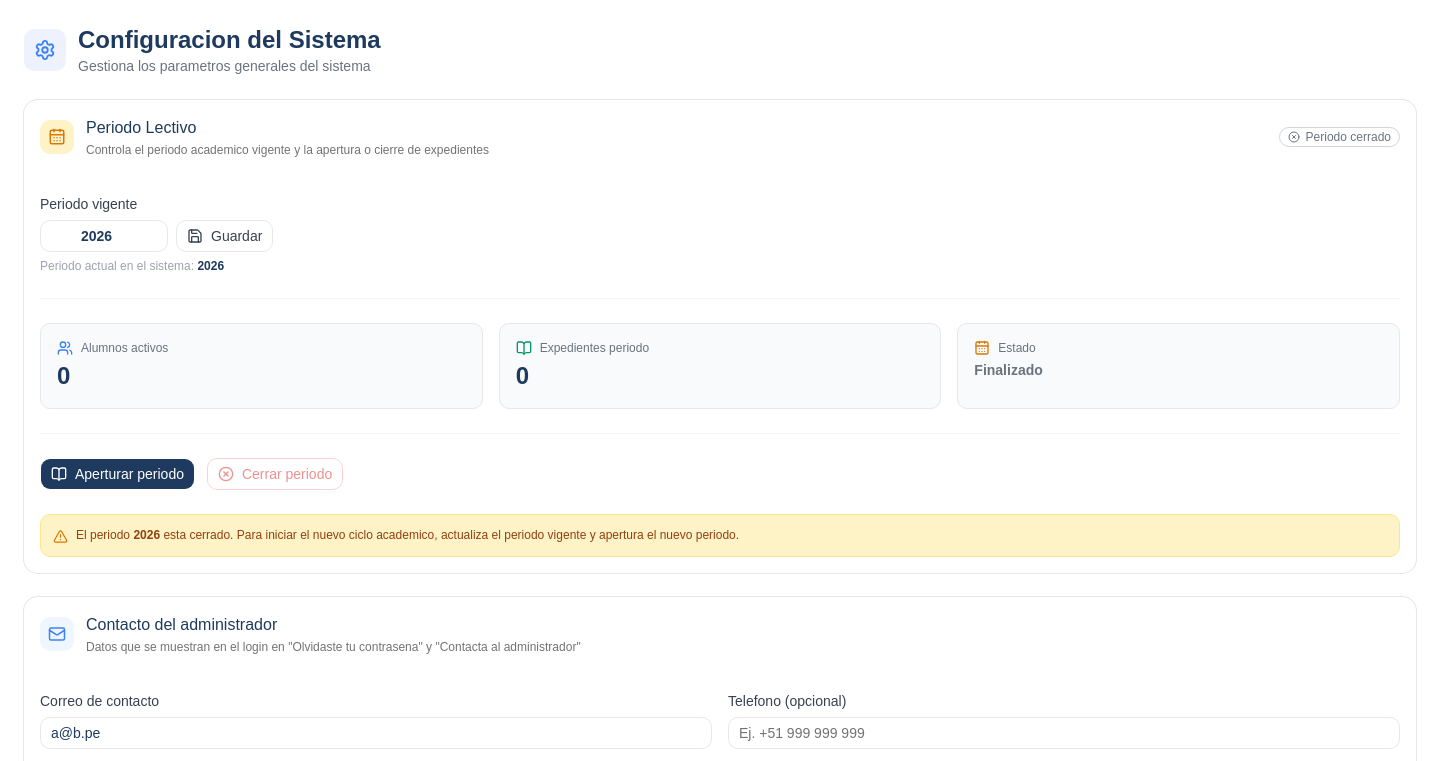
Scenario: AdminConfig — apertura reporta los omitidos › no menciona omitidos cuando se crearon todos
Click the button "Aperturar periodo".
click(118, 474)  # box 40,458 -> 195,490
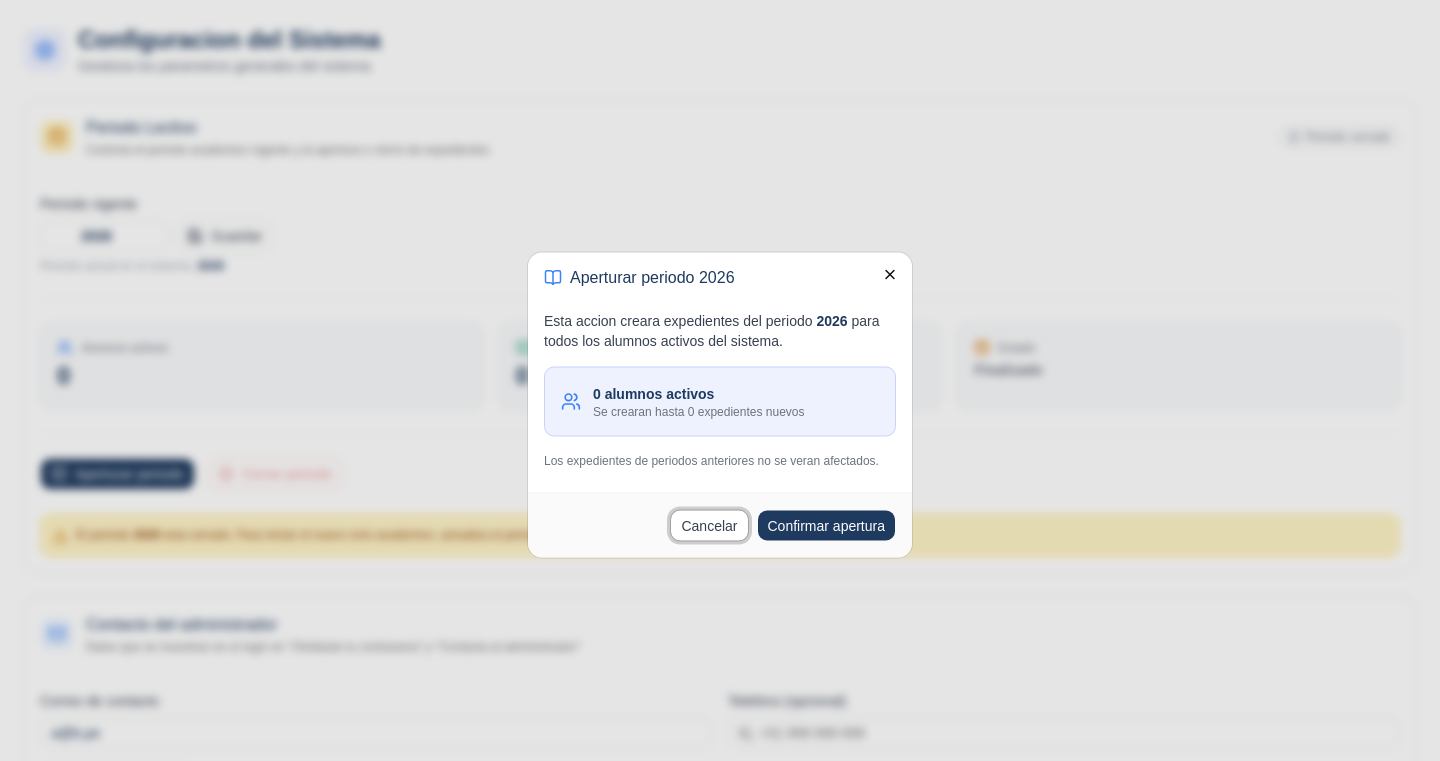
Click the button "Confirmar apertura".
click(826, 526)  # box 756,510 -> 896,542
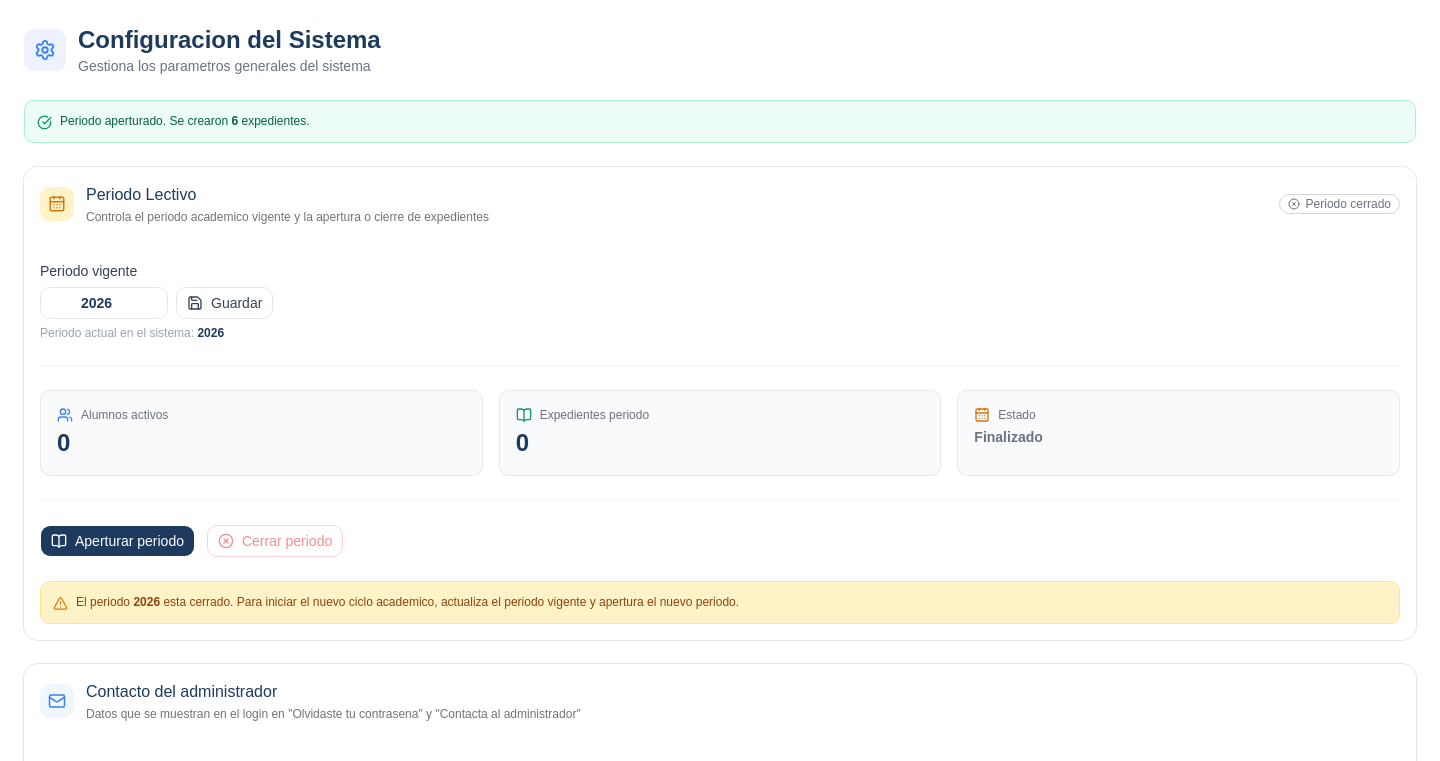
Check: the text "Periodo aperturado. Se crearon 6 expedientes." is shown, box 60,113 -> 310,129
